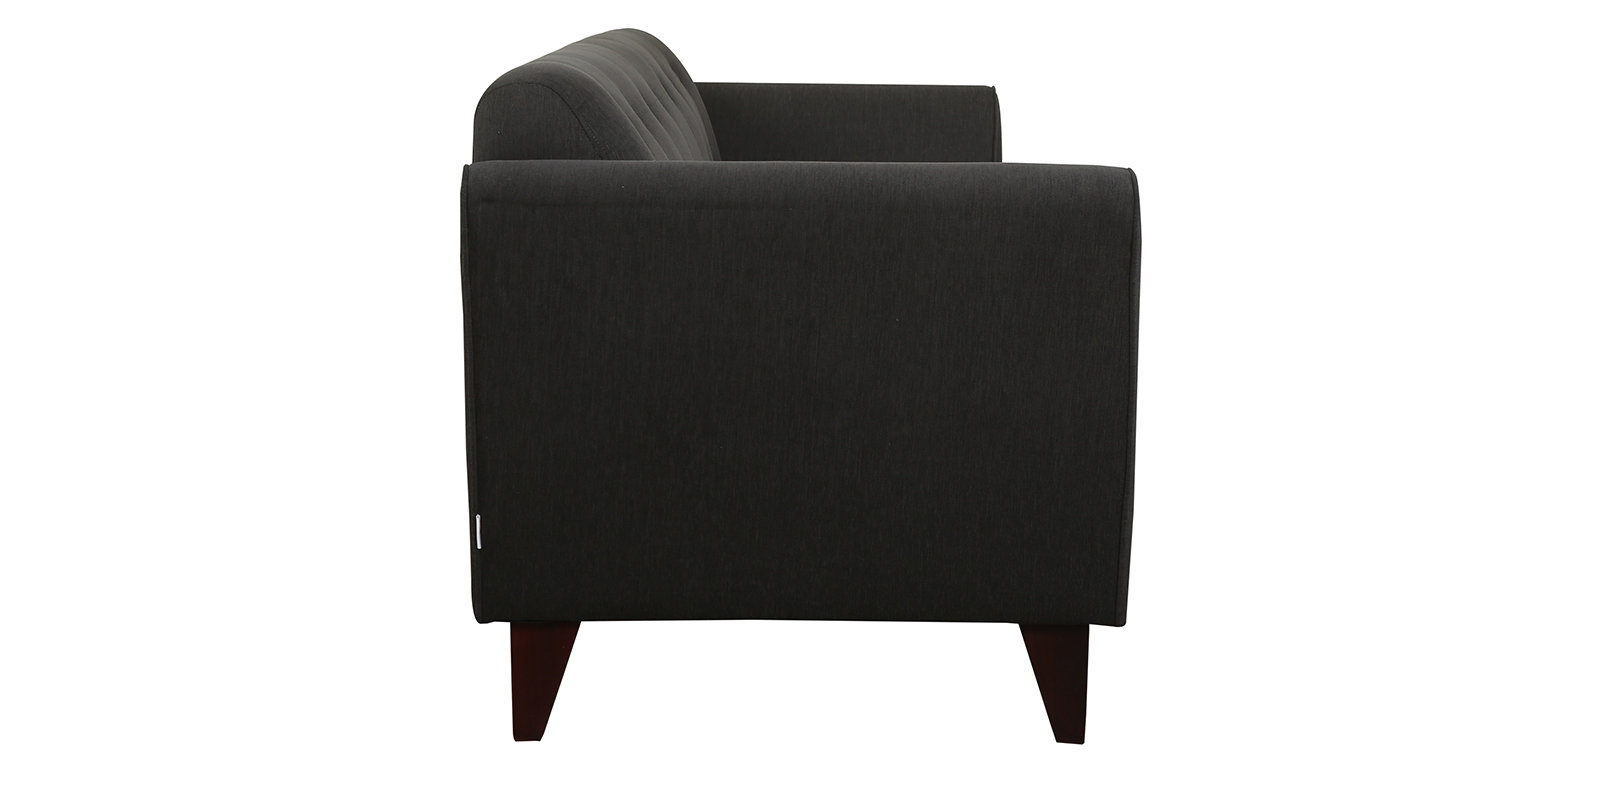Belem Three Seater Sofa in Charcoal Grey Color by CasaCraft: (442, 20, 1149, 693)
